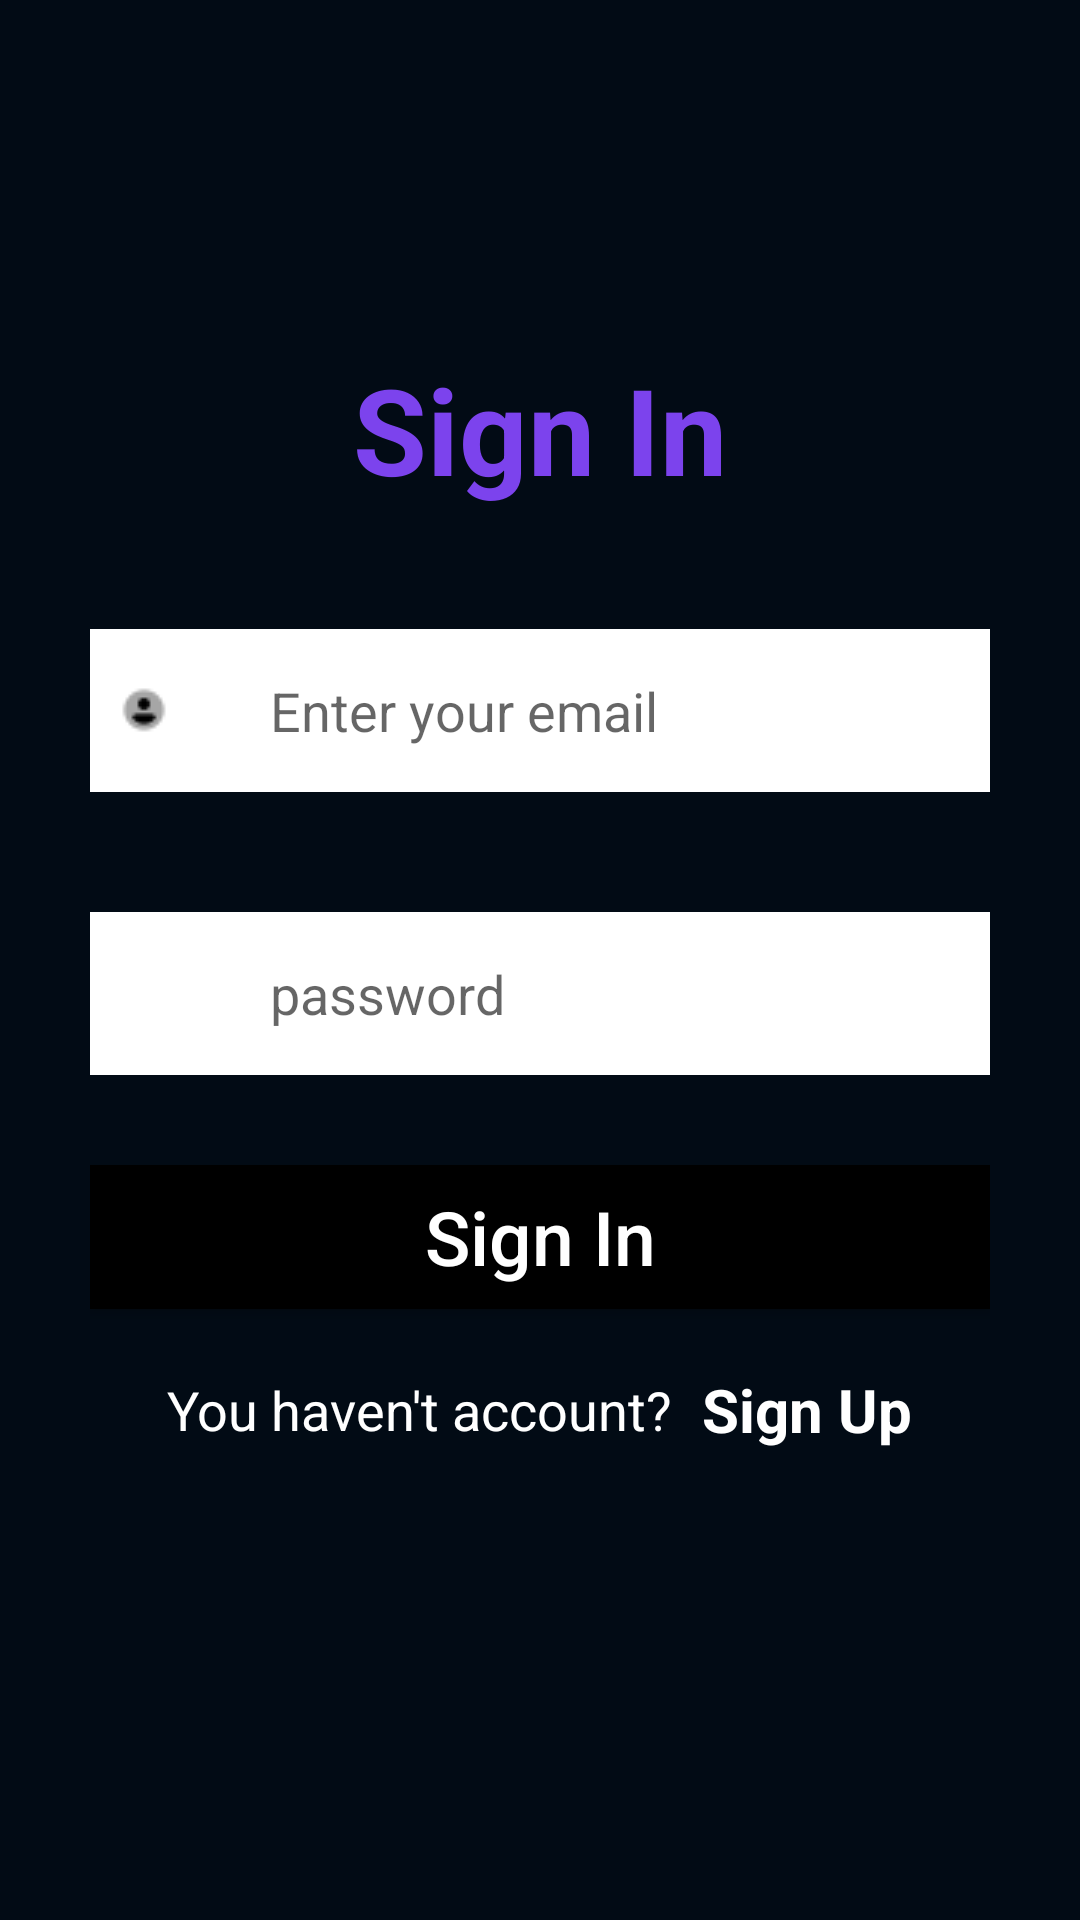

Icons on this 1080 x 1920 Android screen, each with the point to tap as [x,y]:
user: [144,710]
